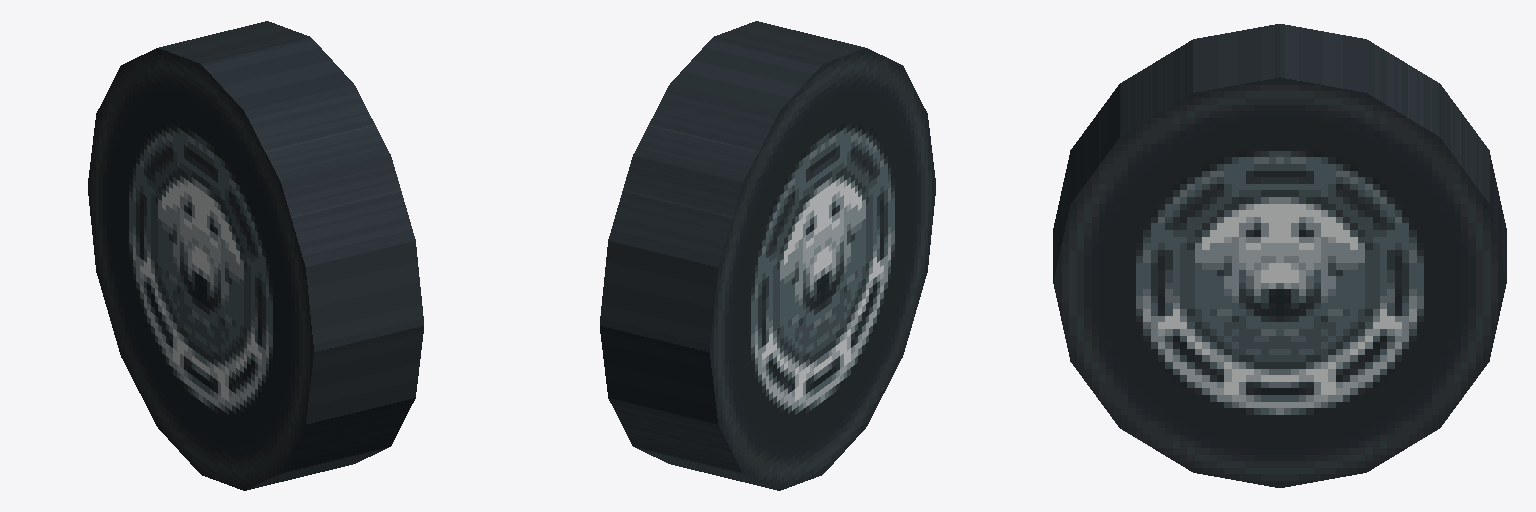
3 renders of one model, left to right at view 1: azimuth 30°, elevation 25°; view 2: azimuth 150°, elevation 25°; view 3: azimuth 270°, elevation 25°, orthographic.
Visible parts, largest first — view 1: wShape1; view 2: wShape1; view 3: wShape1.
Boxes of the visible parts, x1,y1,x2,y2 form: wShape1: [88, 21, 423, 490]; wShape1: [600, 21, 935, 490]; wShape1: [1053, 24, 1506, 487].
Size of the model in its own units: 0.2133 by 0.7606 by 0.7606.
1 materials, 1 textured.